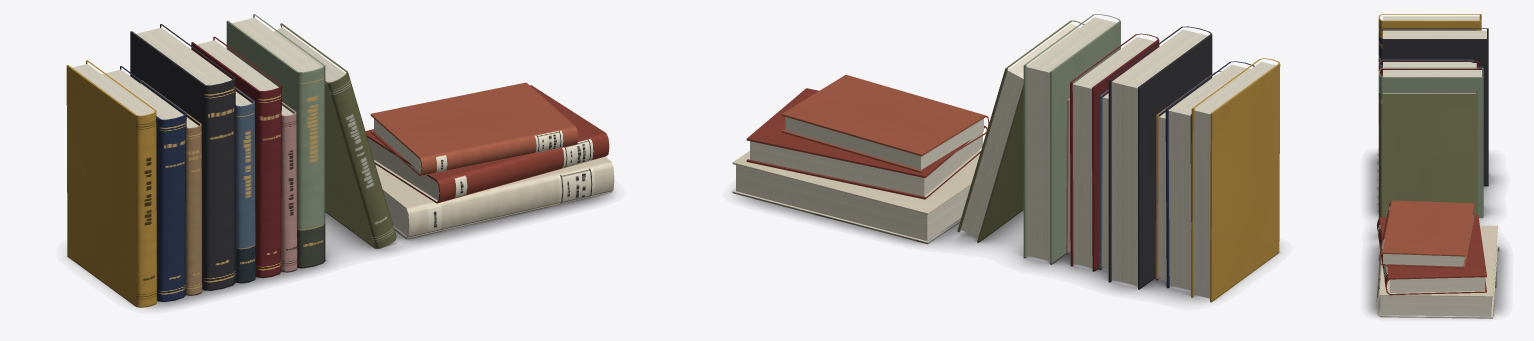
The model's file is books.glb.
The picture shows the model from 3 angles, left to right: view 1: azimuth 30°, elevation 25°; view 2: azimuth 150°, elevation 25°; view 3: azimuth 270°, elevation 25°; orthographic projection. The views are drawn at different scales.
Parts seen in each view (by area): view 1: books_LOD0, books_Shadow; view 2: books_LOD0, books_Shadow; view 3: books_LOD0, books_Shadow.
Boxes of the visible parts, x1,y1,x2,y2 form: books_LOD0: (66, 14, 614, 307); books_Shadow: (66, 191, 614, 308); books_LOD0: (732, 14, 1280, 302); books_Shadow: (731, 188, 1280, 302); books_LOD0: (1376, 14, 1497, 318); books_Shadow: (1367, 152, 1506, 318).
Size of what is drawn, in the model's own units: 0.7103 by 0.2621 by 0.267.
2 materials, 2 textured.
